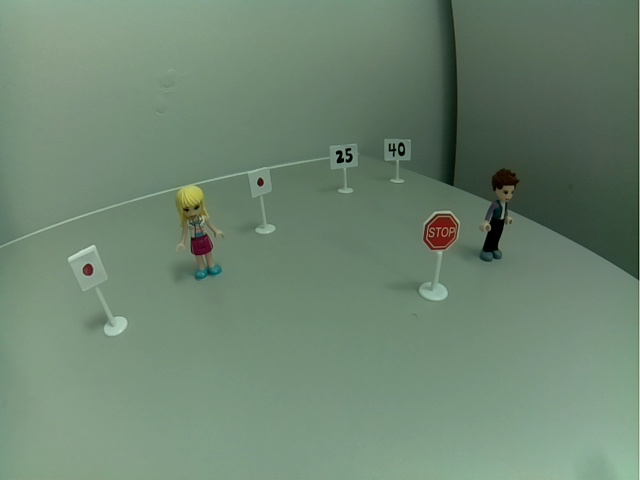people: (172, 185, 227, 281), (477, 167, 521, 263)
red light: (66, 245, 108, 294), (247, 166, 276, 198)
speed 25: (327, 142, 360, 171)
speed 40: (381, 137, 413, 162)
stop: (421, 209, 461, 253)
